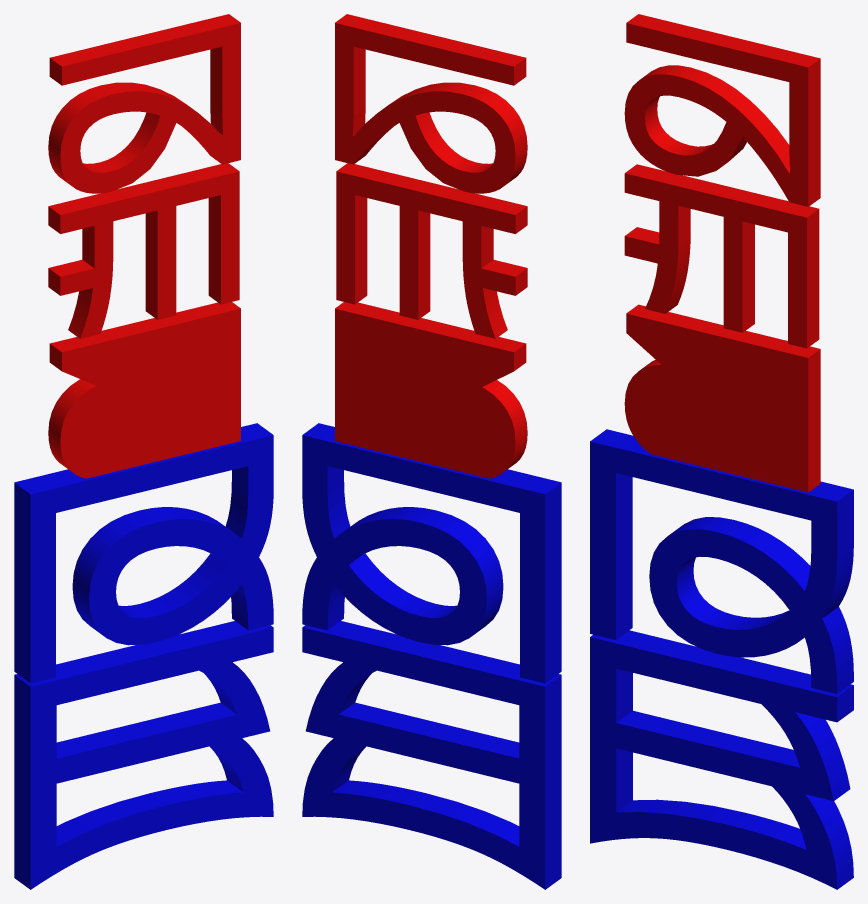
Rendered from Text_sign_4.fbx.
3 renders of one model, left to right at view 1: azimuth 30°, elevation 25°; view 2: azimuth 150°, elevation 25°; view 3: azimuth 330°, elevation 25°, orthographic.
Parts seen in each view (by area): view 1: Text_sign_4; view 2: Text_sign_4; view 3: Text_sign_4.
Boxes of the visible parts, left/top/right/bottom form: Text_sign_4: left=14, top=14, right=273, bottom=889; Text_sign_4: left=302, top=14, right=561, bottom=889; Text_sign_4: left=590, top=14, right=853, bottom=889.
Size of the model in its own units: 29.15 by 93.25 by 3.41.
